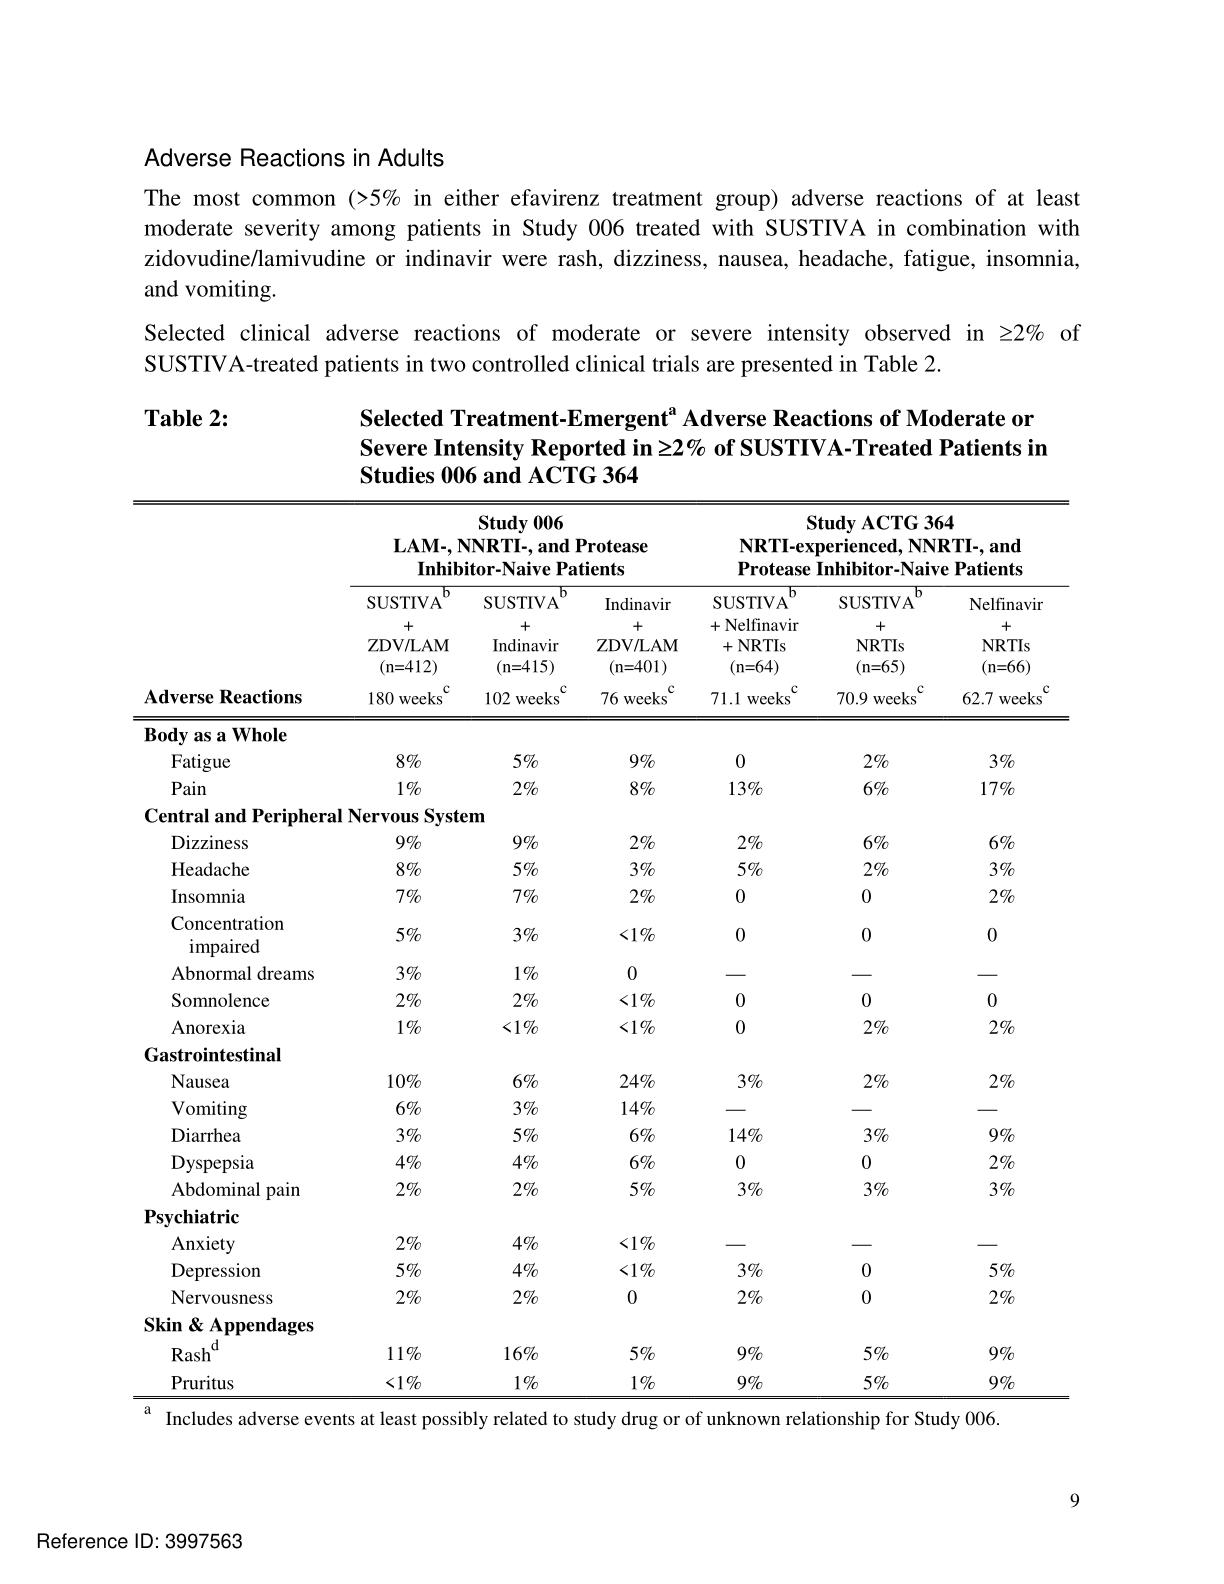partial_lined_merged_cells: (130, 498, 1071, 1401)
